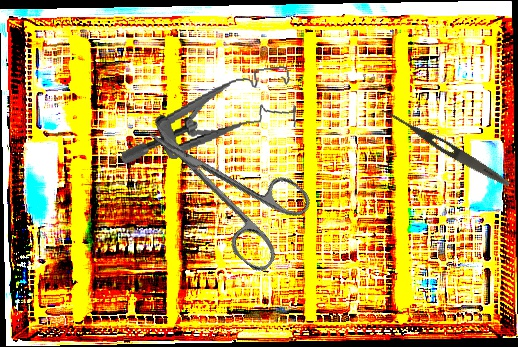Dressing Forceps: (378, 105, 513, 190)
Iris Scissors: (123, 89, 321, 276)
Speculum: (112, 64, 301, 167)
